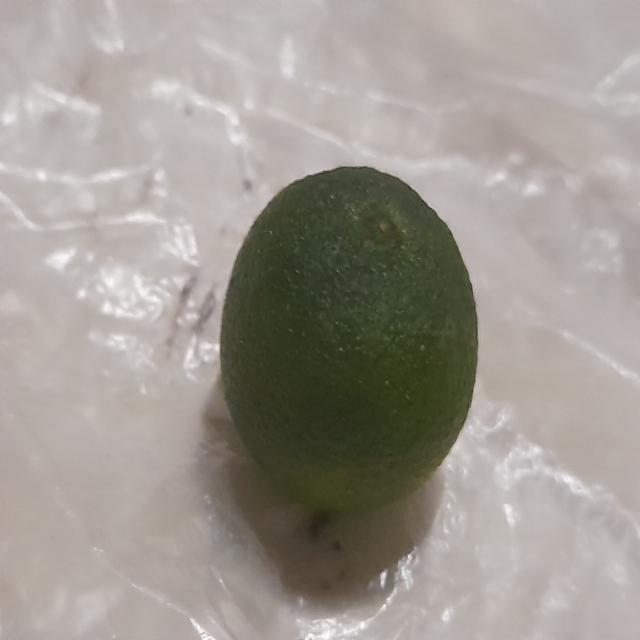heathy: (213, 144, 484, 515)
